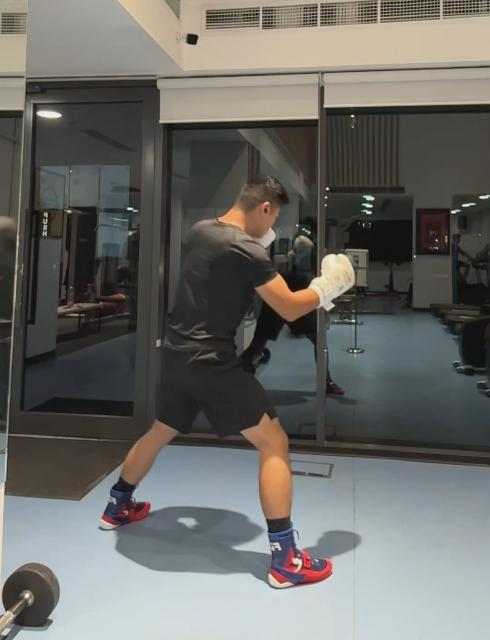punch: (94, 168, 358, 592)
